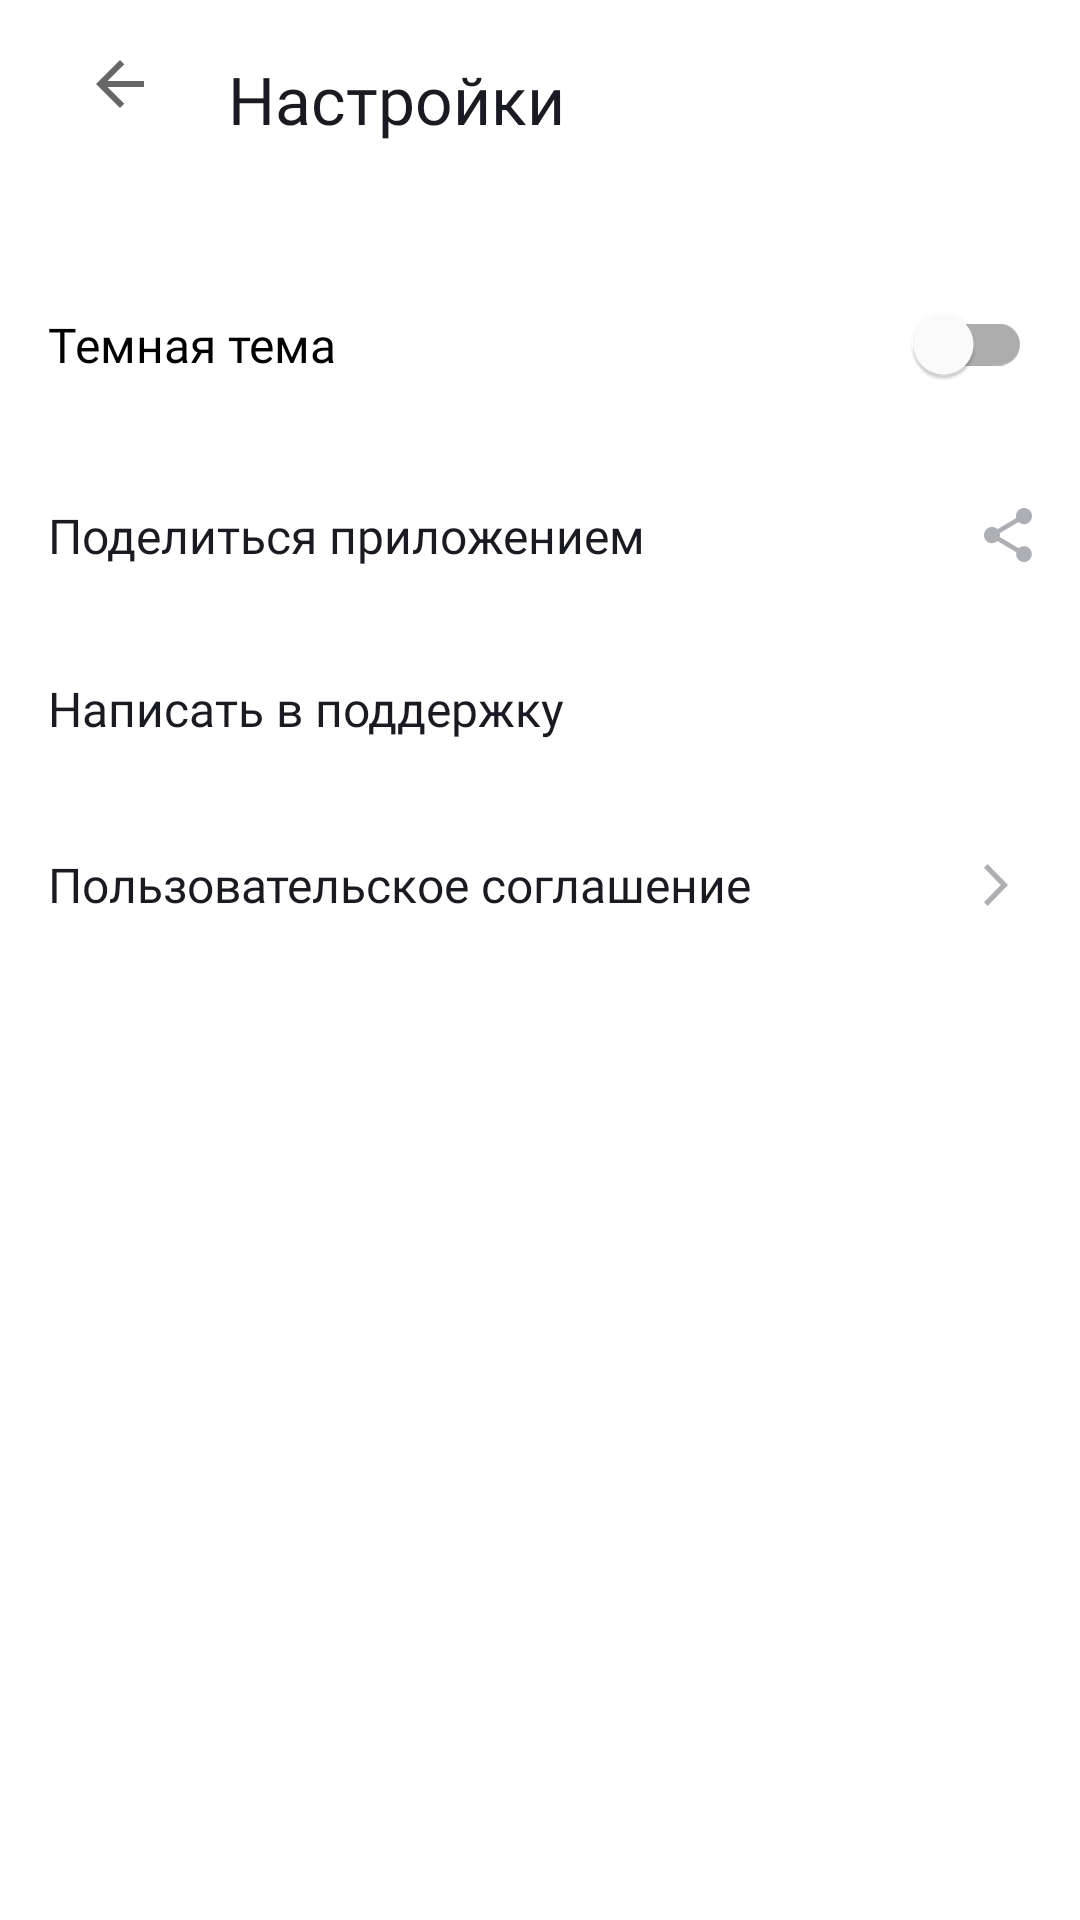

Where to tap for icons on this 1080*1920 app screen, as (x,y):
back: (120,84)
